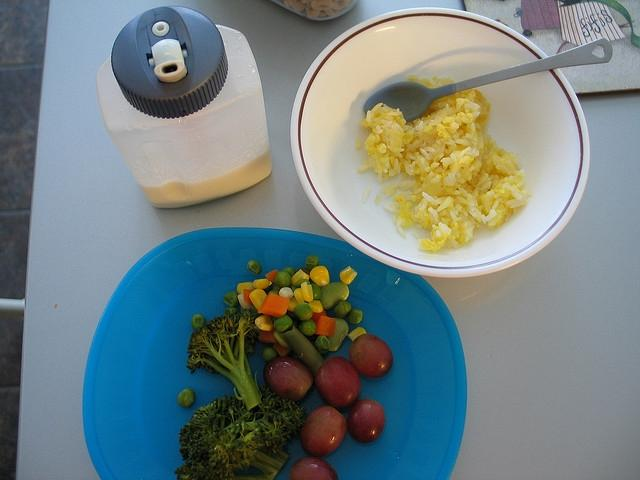broccoli: (174, 383, 308, 479), (186, 308, 262, 410)
carrot: (258, 292, 290, 317), (314, 316, 336, 336), (258, 326, 278, 344), (272, 342, 292, 357), (310, 310, 328, 322), (265, 270, 280, 282), (243, 289, 253, 305)
corn: (310, 266, 330, 286), (254, 314, 274, 332), (250, 288, 266, 310), (347, 326, 367, 343), (340, 266, 358, 284), (291, 270, 310, 286), (300, 282, 314, 302), (237, 282, 256, 294), (308, 300, 324, 313), (279, 287, 294, 300), (287, 296, 298, 312), (294, 287, 304, 304)
grape: (300, 404, 348, 458), (315, 355, 361, 410), (263, 358, 313, 400), (349, 334, 393, 378), (346, 399, 386, 444), (289, 456, 338, 480)
green bean: (282, 326, 324, 376)
